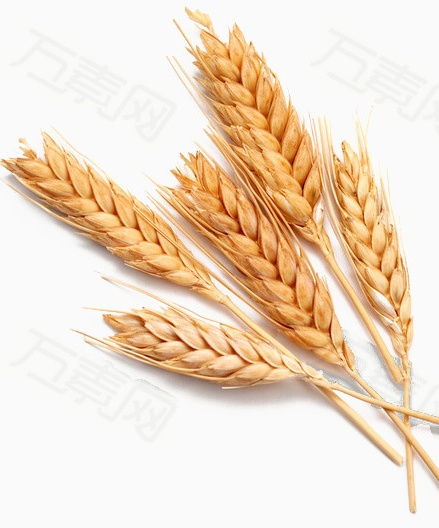wheat: (182, 15, 367, 318), (10, 128, 260, 328), (187, 161, 375, 394), (310, 129, 431, 393), (49, 293, 332, 385)
